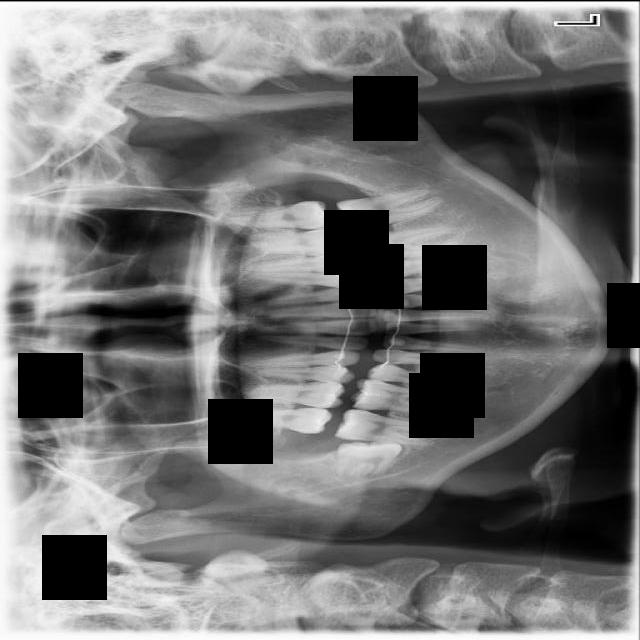52: (330, 185, 386, 244), (349, 377, 392, 410), (353, 229, 392, 265)
73: (616, 7, 622, 15)
BioHorizons Implant: (210, 197, 335, 234)
Blue Sky Bio Implant: (330, 184, 447, 238)
Caries: (210, 405, 333, 437)
Implant: (333, 406, 446, 450)
Keystone Dental Implant: (333, 438, 405, 483)
